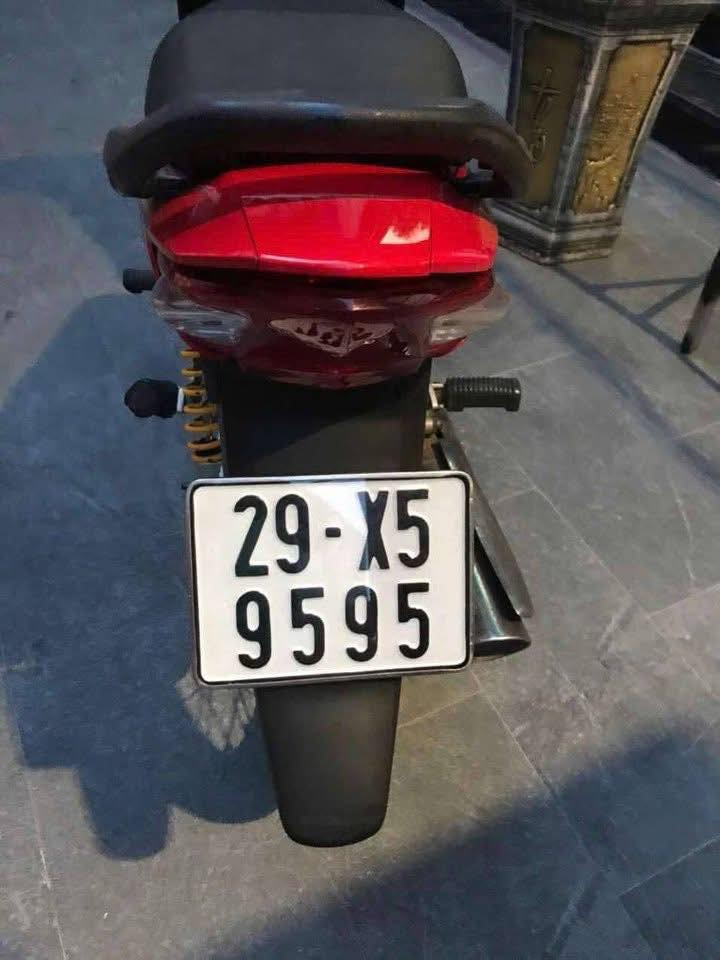bien_so: (179, 463, 492, 695)
